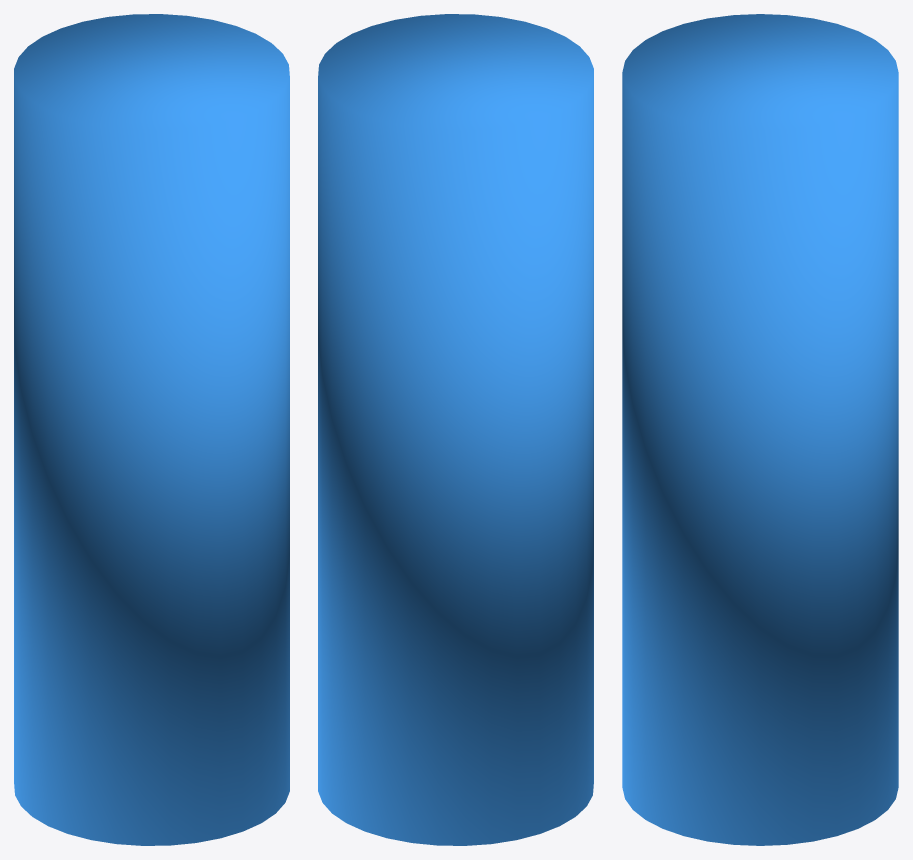
The model's file is HATCH_HighPressure_Fuel_Pump_1.glb.
3 renders of one model, left to right at view 1: azimuth 30°, elevation 25°; view 2: azimuth 150°, elevation 25°; view 3: azimuth 270°, elevation 25°, orthographic.
Visible parts, largest first — view 1: HATCH_HighPressure_Fuel_Pump_1; view 2: HATCH_HighPressure_Fuel_Pump_1; view 3: HATCH_HighPressure_Fuel_Pump_1.
Part boxes in pixels (<box>): HATCH_HighPressure_Fuel_Pump_1: <box>14,14,289,845</box>; HATCH_HighPressure_Fuel_Pump_1: <box>318,14,593,845</box>; HATCH_HighPressure_Fuel_Pump_1: <box>622,14,898,845</box>.
Bounding box in the file's own units: 0.056 × 0.16 × 0.056.
